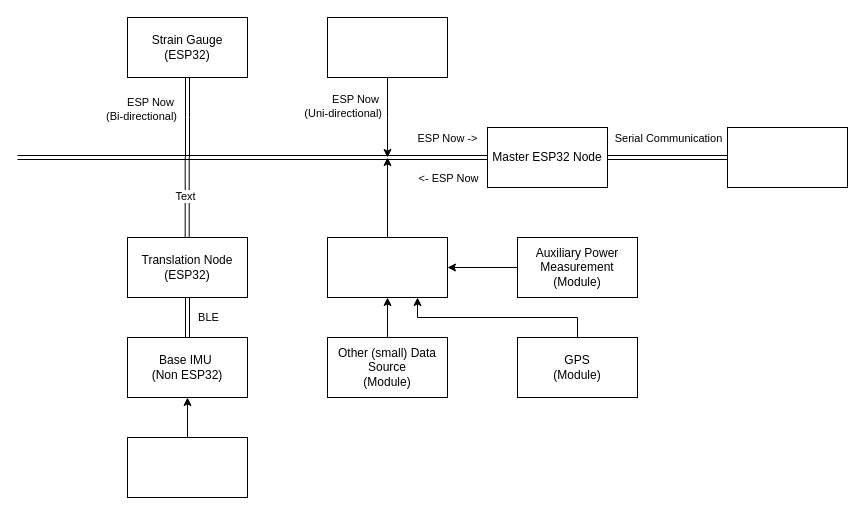
This 865x515 diagram has some shape labels left out. Each missing label, with the centre of its shape:
HE Sensor & ADS8688 (ESP32): (x=387, y=47)
Raspberry Pi: (x=787, y=157)
Sensor Consolidator (ESP32): (x=387, y=267)
Top IMU (Non ESP32): (x=187, y=467)
